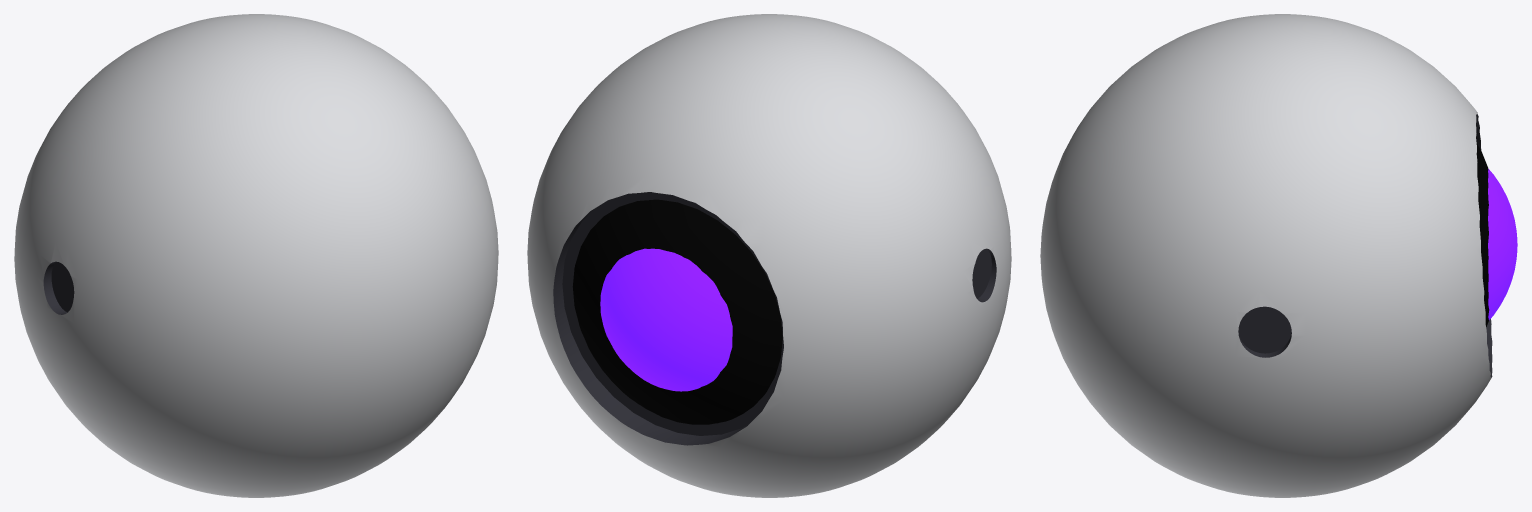
Rendered from Jugador_particula_body.glb.
3 views of the same model, side by side, from view 1: azimuth 30°, elevation 25°; view 2: azimuth 150°, elevation 25°; view 3: azimuth 270°, elevation 25° (orthographic).
Parts seen in each view (by area): view 1: body; view 2: body; view 3: body.
Boxes of the visible parts, bbox=[...] form: body: bbox=[14, 14, 498, 497]; body: bbox=[527, 14, 1011, 497]; body: bbox=[1040, 14, 1517, 497].
Bounding box in the file's own units: 2 × 2 × 1.97.
